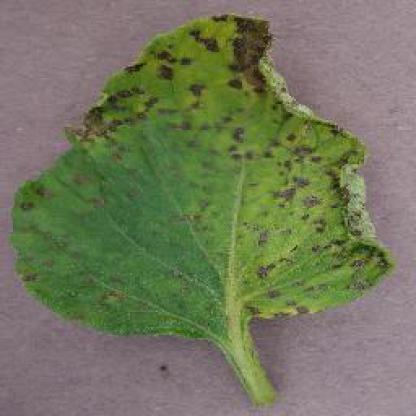bad leaf: (16, 15, 386, 394)
